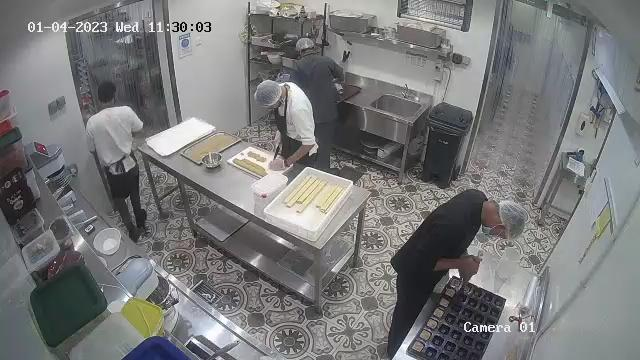apron: (275, 88, 317, 166), (103, 144, 139, 172)
